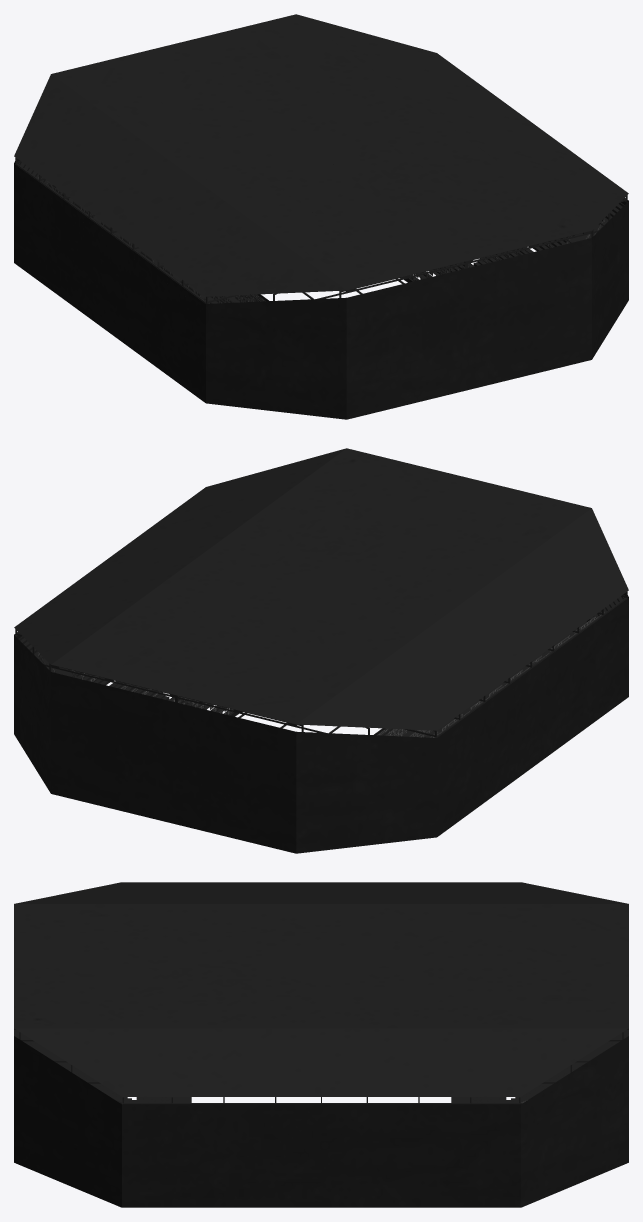
File: CombinedMesh-MeshBaker (0)-mesh.fbx
3 views of the same model, one above another, from view 1: azimuth 30°, elevation 25°; view 2: azimuth 150°, elevation 25°; view 3: azimuth 270°, elevation 25° (orthographic). The views are drawn at different scales.
Visible parts, largest first — view 1: MeshBaker__0__mesh_mesh; view 2: MeshBaker__0__mesh_mesh; view 3: MeshBaker__0__mesh_mesh.
Part boxes in pixels (box(x1,y1,x2,y2)): MeshBaker__0__mesh_mesh: box(14, 14, 628, 419); MeshBaker__0__mesh_mesh: box(14, 448, 628, 853); MeshBaker__0__mesh_mesh: box(14, 882, 628, 1207).
Bounding box in the file's own units: 9833 × 3090 × 11905.
